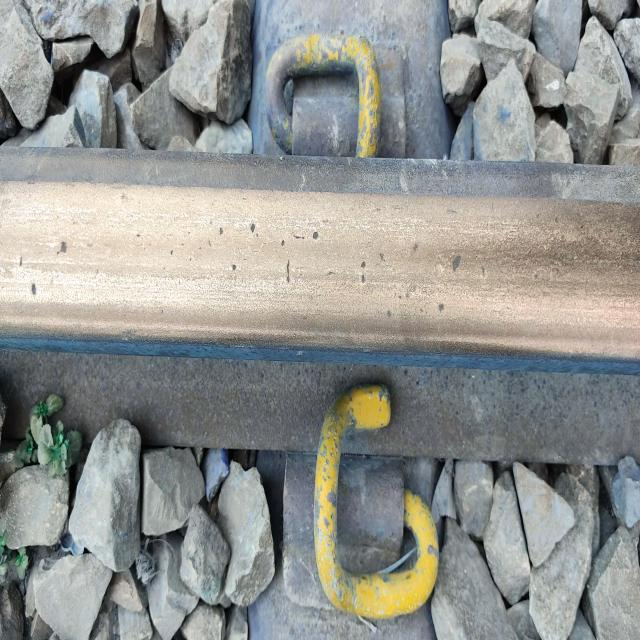Good Fasteners: (279, 346, 480, 622), (231, 27, 422, 192)
